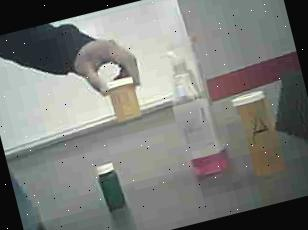Bottle A: (228, 81, 300, 186)
Bottle B: (95, 70, 149, 130)
Bottle C: (92, 156, 134, 222)
hazard: (153, 31, 239, 186)
